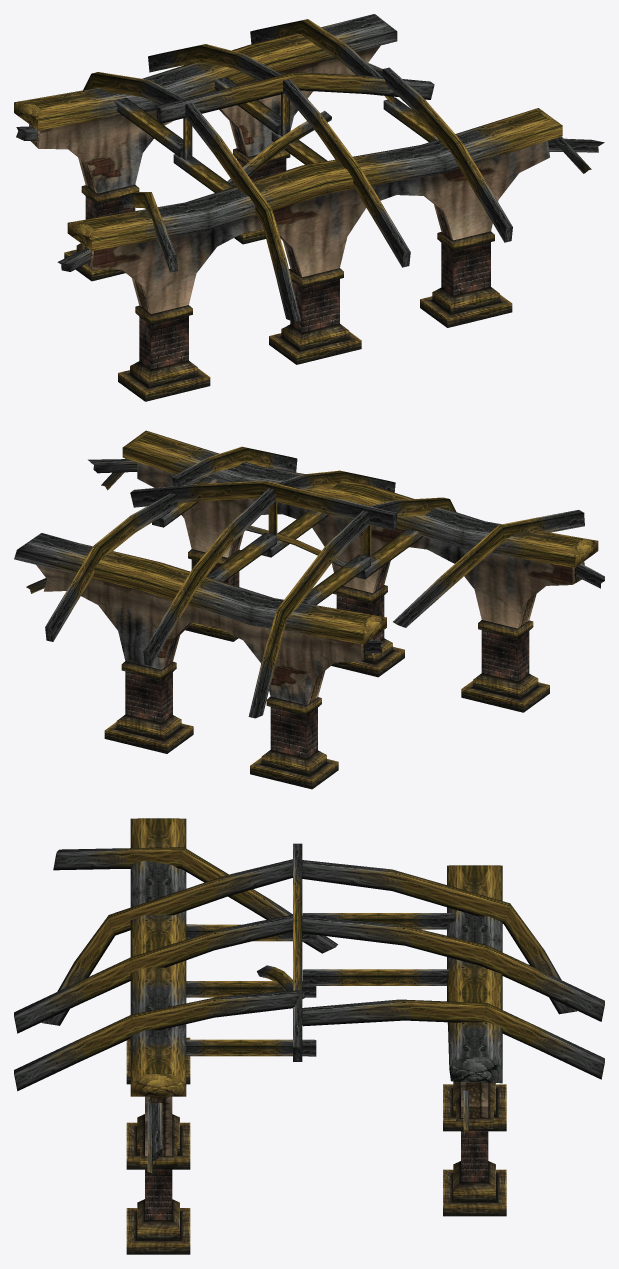
The model's file is CB_ARENA_BUILDING01.fbx.
3 views of the same model, one above another, from view 1: azimuth 30°, elevation 25°; view 2: azimuth 150°, elevation 25°; view 3: azimuth 270°, elevation 25° (orthographic). The views are drawn at different scales.
Parts seen in each view (by area): view 1: CB_ARENA_BUILDING01; view 2: CB_ARENA_BUILDING01; view 3: CB_ARENA_BUILDING01.
Boxes of the visible parts, box(x1,y1,x2,y2) form: CB_ARENA_BUILDING01: box(14, 14, 604, 401); CB_ARENA_BUILDING01: box(14, 430, 604, 789); CB_ARENA_BUILDING01: box(14, 818, 604, 1254).
Size of the model in its own units: 287446 by 110935 by 234433.
Materials: 7 (7 with a texture image).
